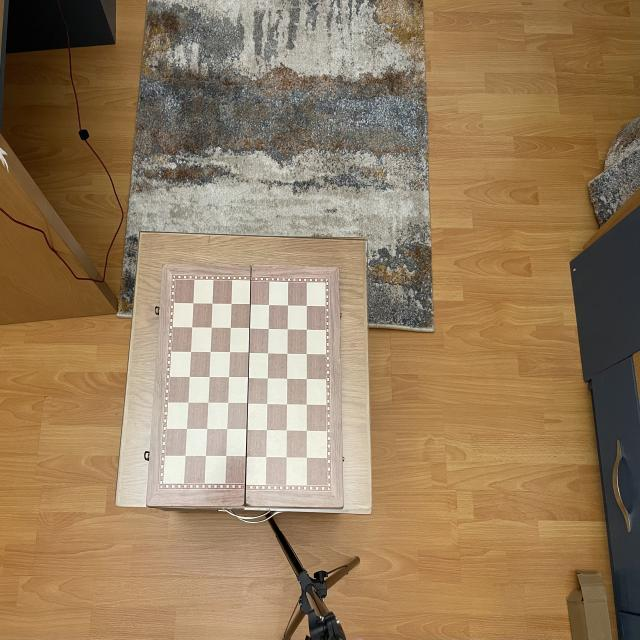corners: (322, 261, 346, 280), (330, 495, 352, 513), (136, 497, 160, 512), (156, 258, 174, 273)
